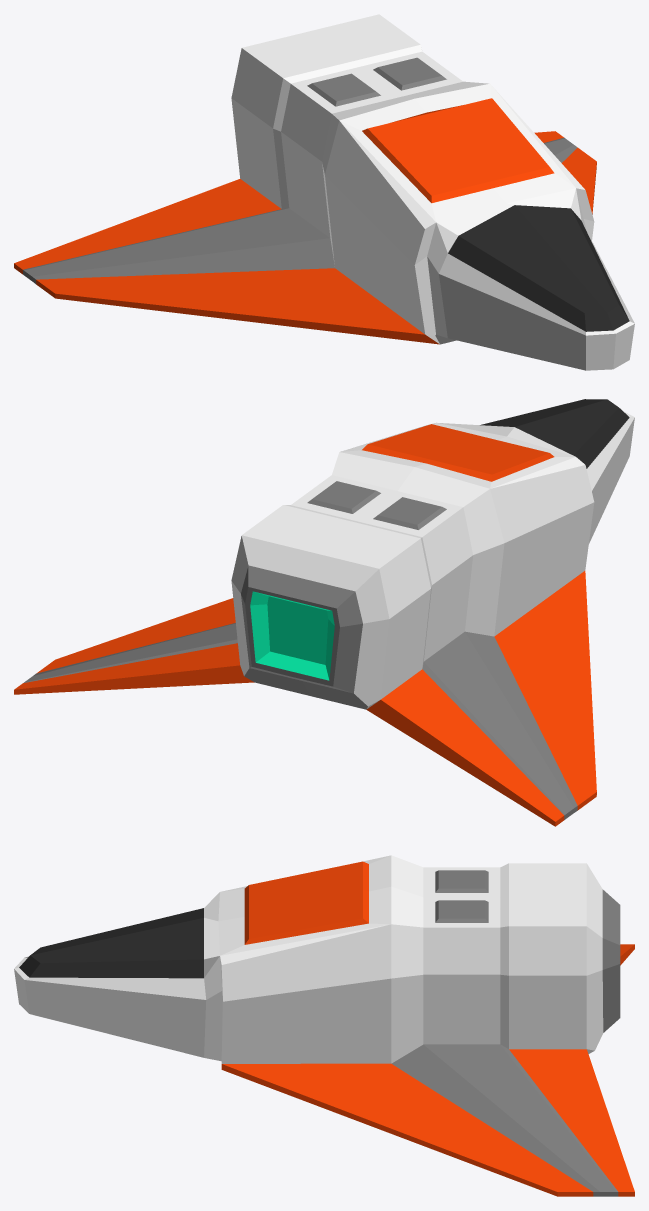
File: Low_Poly_Spaceship_001.glb
3 views of the same model, one above another, from view 1: azimuth 30°, elevation 25°; view 2: azimuth 150°, elevation 25°; view 3: azimuth 270°, elevation 25° (orthographic). The views are drawn at different scales.
Parts seen in each view (by area): view 1: Low_Poly_Spaceship_001; view 2: Low_Poly_Spaceship_001; view 3: Low_Poly_Spaceship_001.
Part boxes in pixels (x1,y1,x2,y2): Low_Poly_Spaceship_001: (14, 14, 634, 370); Low_Poly_Spaceship_001: (14, 399, 634, 826); Low_Poly_Spaceship_001: (14, 855, 634, 1196).
Bounding box in the file's own units: 6.93 × 2.43 × 7.34.
